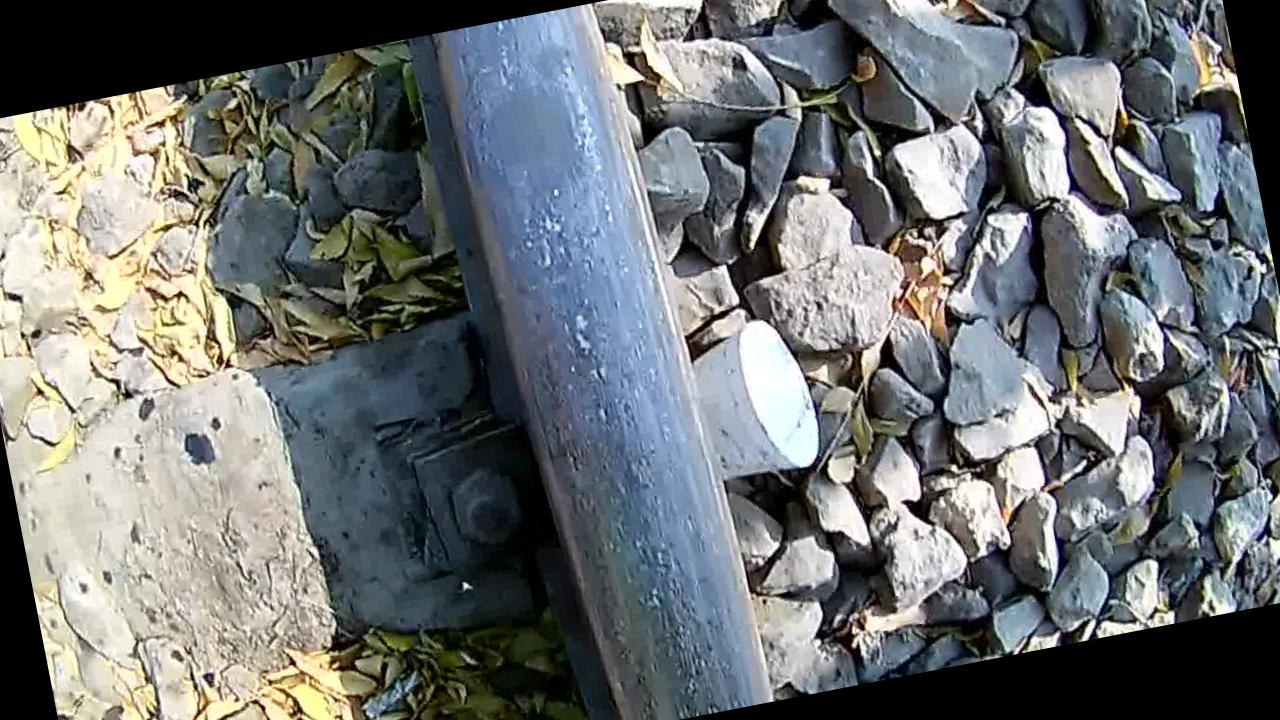bolt_missing: (410, 11, 621, 266)
